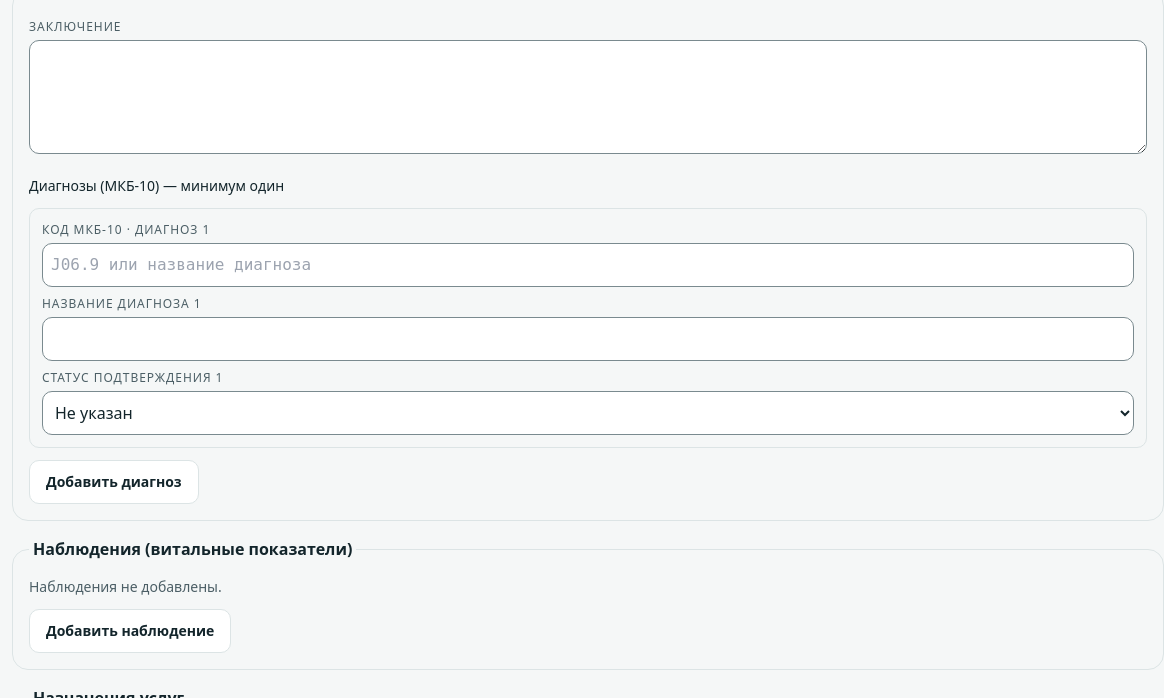
EncounterCompleteForm server errors › should put the server message under the field and the foreign ones into the banner when a VALIDATION_ERROR carries details
Type "ОРВИ, состояние удовлетворительное" into the text box labelled "Заключение".
click(588, 97); type("ОРВИ, состояние удовлетворительное")  # box [29,40,1147,154]
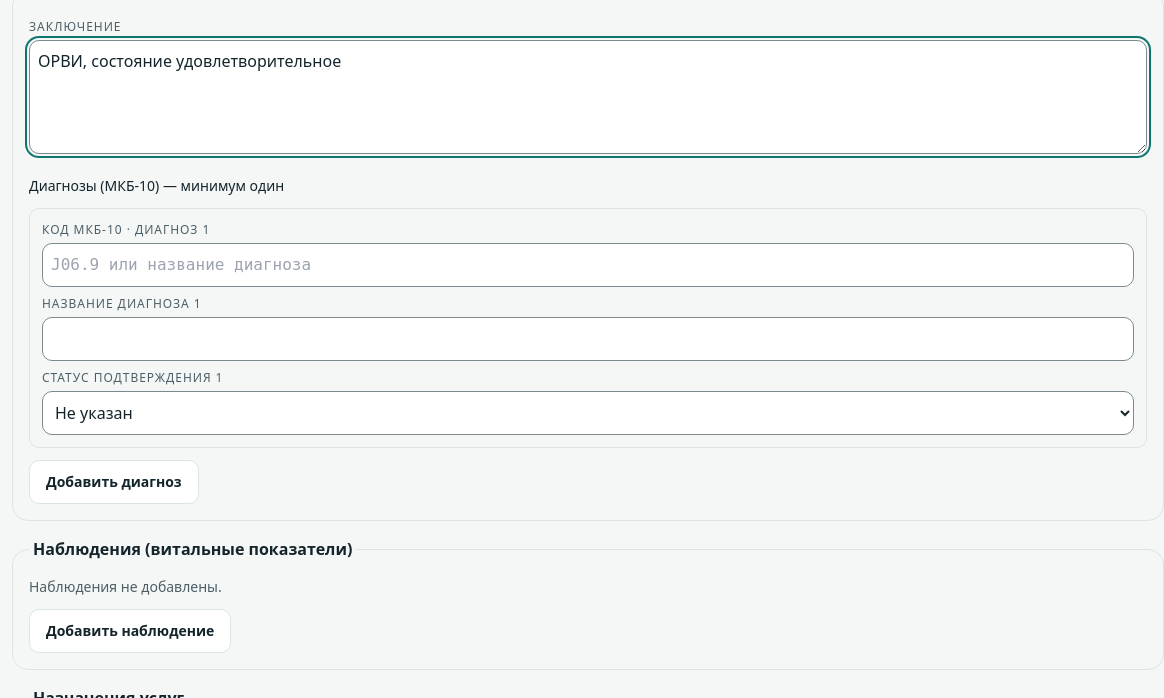
Type "Острый назофарингит" into the field labelled "Название диагноза 1".
click(588, 339); type("Острый назофарингит")  # box [42,317,1134,361]
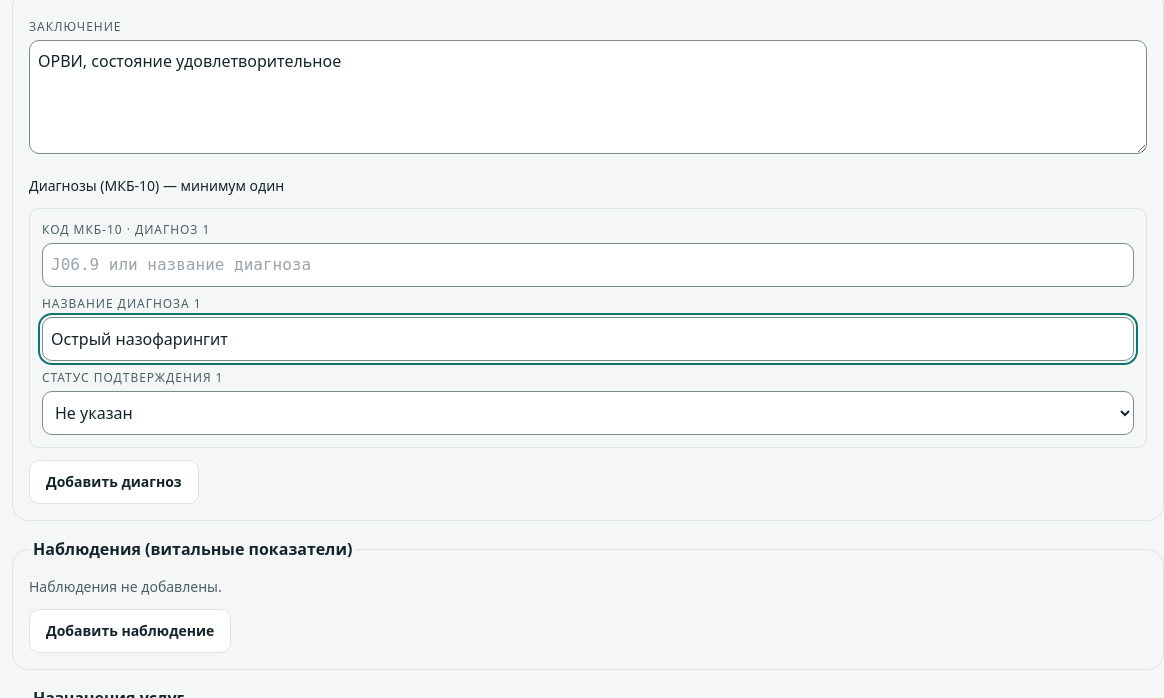
Type "J06.9" into the dropdown labelled "Код МКБ-10 · диагноз 1".
click(588, 265); type("J06.9")  # box [42,243,1134,287]
(page scrolled)
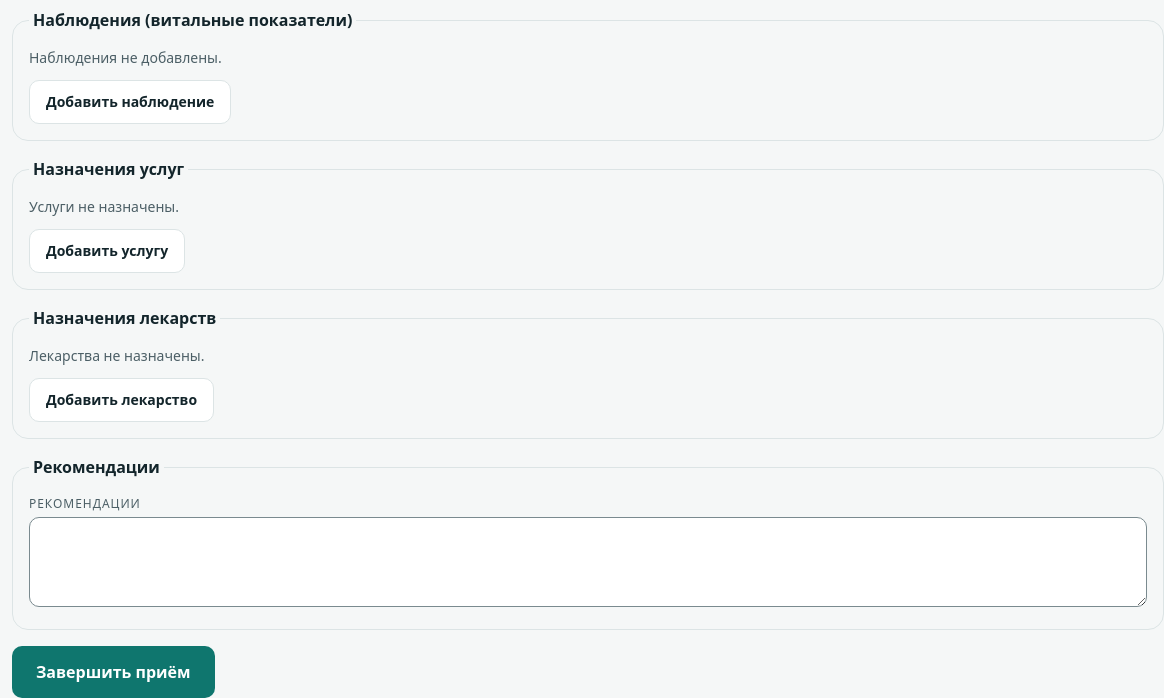
Type "Покой, обильное питьё" into the text box labelled "Рекомендации".
click(588, 562); type("Покой, обильное питьё")  # box [29,517,1147,607]
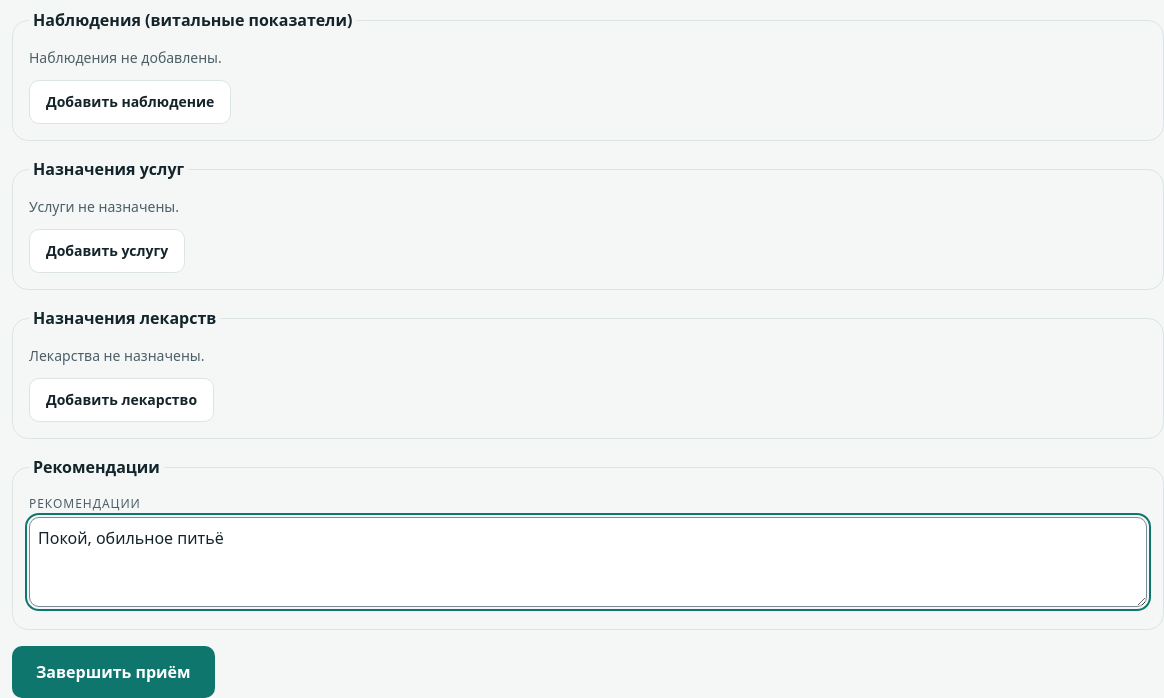
Click the button "Завершить приём".
click(113, 672)  # box [12,646,215,697]
(page scrolled)
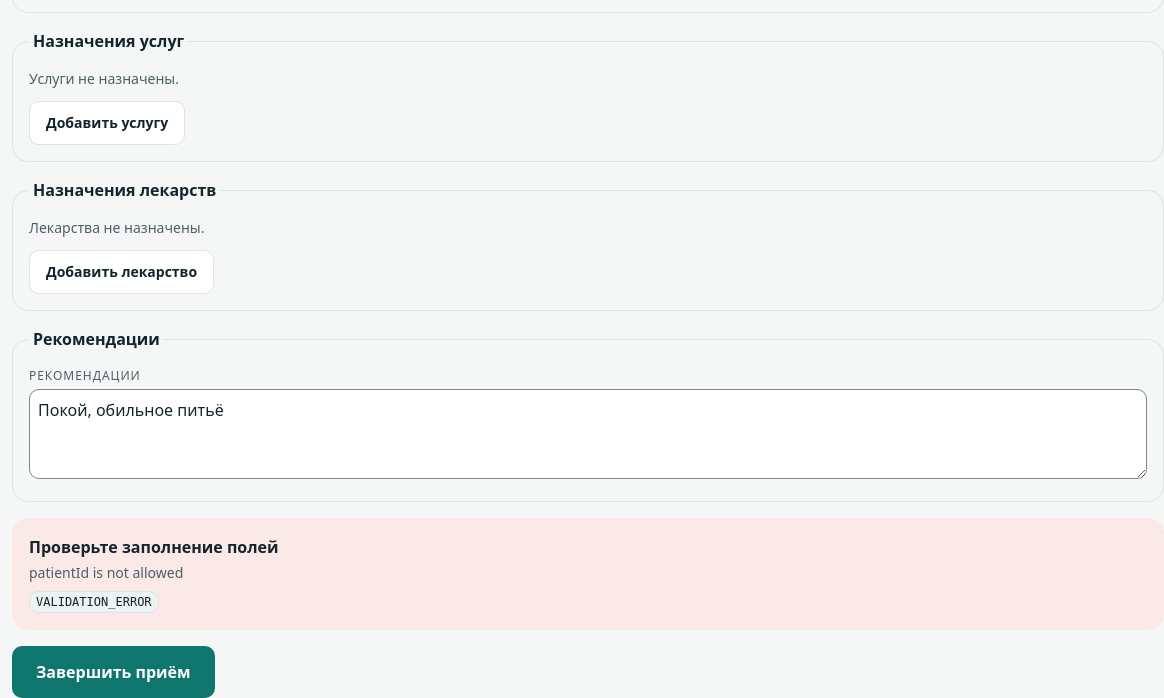
Expected: the message with test id "problem-banner" shows "patientId is not allowed", [29,563,183,582]
